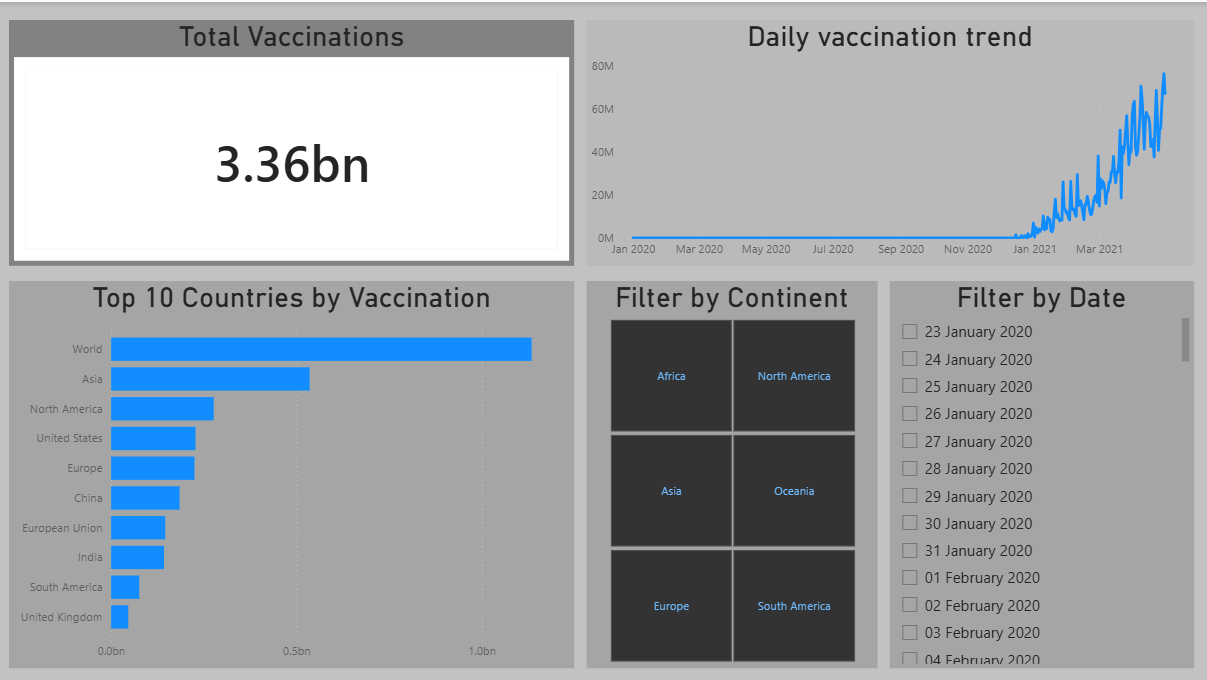

This screenshot's page, from the dashboard's own definition file:
{"tool":"powerbi","page":{"name":"Vaccination Analysis","canvas":[1280,720],"ordinal":2},"visuals":[{"type":"lineChart","title":"Daily vaccination trend","fields":{"Category":["CovidVaccinations_Clean.date"],"Y":["Sum(CovidVaccinations_Clean.new_vaccinations)"]},"box":[621.9,19.1,644.2,260.9],"z":0},{"type":"cardVisual","title":"Total Vaccinations","fields":{"Data":["Sum(CovidVaccinations_Clean.new_vaccinations)"]},"box":[9.5,19.1,599.7,260.9],"z":1000},{"type":"clusteredBarChart","title":"Top 10 Countries by Vaccination","fields":{"Category":["CovidVaccinations_Clean.location"],"Y":["Sum(CovidVaccinations_Clean.new_vaccinations)"]},"box":[9.5,295.9,599.7,410.4],"z":2000},{"type":"slicer","title":"Filter by Continent","fields":{"Values":["CovidDeaths_Clean.continent"]},"box":[621.9,295.9,308.6,410.4],"z":3000},{"type":"slicer","title":"Filter by Date","fields":{"Values":["CovidDeaths_Clean.date"]},"box":[943.2,295.9,322.9,410.4],"z":4000}]}

Visuals, with their boxes in screenshot pixels (x1, y1, x2, y2), scaled from the page's 1280x720 canvas onto the 1207x680 screenshot:
"Daily vaccination trend" lineChart: pyautogui.locateOnScreen(586, 18, 1194, 264)
"Total Vaccinations" cardVisual: pyautogui.locateOnScreen(9, 18, 574, 264)
"Top 10 Countries by Vaccination" clusteredBarChart: pyautogui.locateOnScreen(9, 279, 574, 667)
"Filter by Continent" slicer: pyautogui.locateOnScreen(586, 279, 877, 667)
"Filter by Date" slicer: pyautogui.locateOnScreen(889, 279, 1194, 667)
